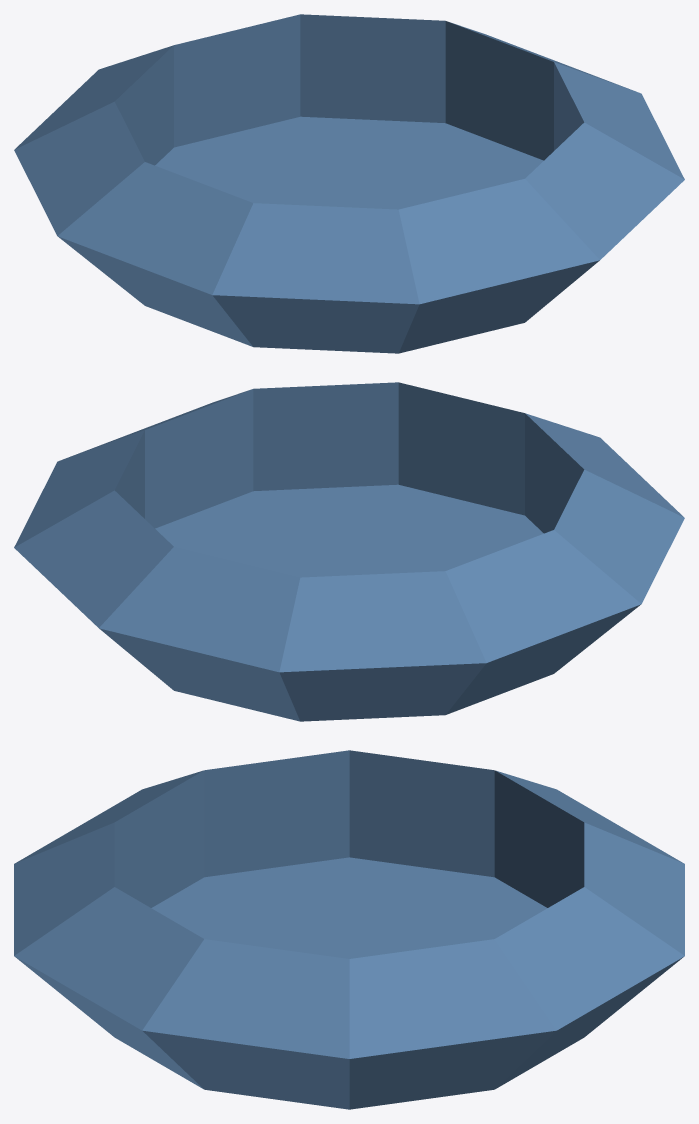
File: research-building.fbx
The picture shows the model from 3 angles, top to bottom: view 1: azimuth 30°, elevation 25°; view 2: azimuth 150°, elevation 25°; view 3: azimuth 270°, elevation 25°; orthographic projection. The views are drawn at different scales.
Parts seen in each view (by area): view 1: Torus; view 2: Torus; view 3: Torus.
Boxes of the visible parts, x1,y1,x2,y2 form: Torus: [14, 14, 684, 353]; Torus: [14, 382, 684, 721]; Torus: [14, 750, 684, 1109].
Size of the model in its own units: 3.04 by 0.7163 by 2.89.
